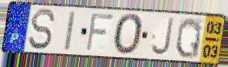F: (84, 12, 116, 53)
I: (63, 10, 77, 53)
J: (149, 16, 175, 58)
O: (112, 13, 145, 57)
Q: (174, 16, 203, 60)
S: (27, 8, 57, 52)
